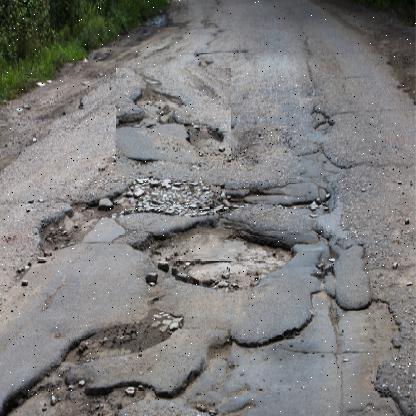damage: (126, 173, 317, 326), (5, 298, 180, 415), (23, 176, 134, 287), (115, 68, 231, 172)
